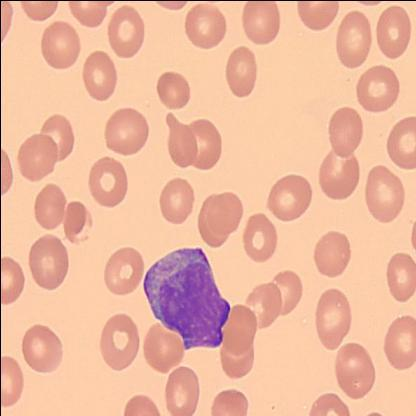Promyelocyte: (142, 245, 230, 347)
